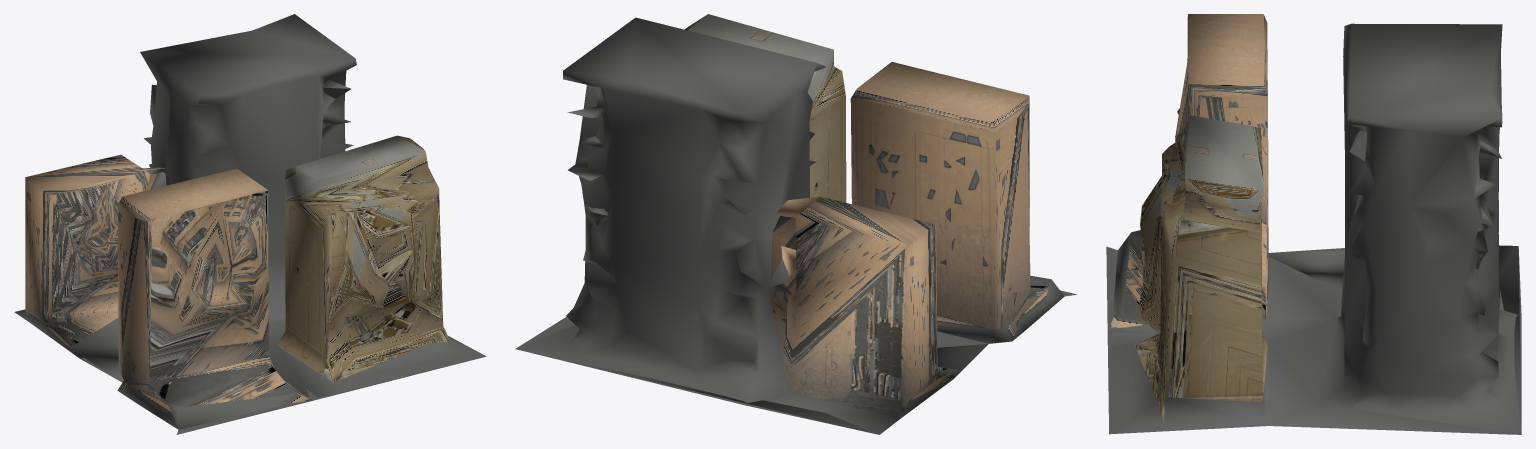
File: City_LOD2.fbx
3 renders of one model, left to right at view 1: azimuth 30°, elevation 25°; view 2: azimuth 150°, elevation 25°; view 3: azimuth 270°, elevation 25°, orthographic. The views are drawn at different scales.
Parts seen in each view (by area): view 1: City_LOD2; view 2: City_LOD2; view 3: City_LOD2.
Part boxes in pixels (x1,y1,x2,y2): City_LOD2: (14,14,486,434); City_LOD2: (515,14,1076,434); City_LOD2: (1106,14,1521,434).
Size of the model in its own units: 156 by 112 by 142.
